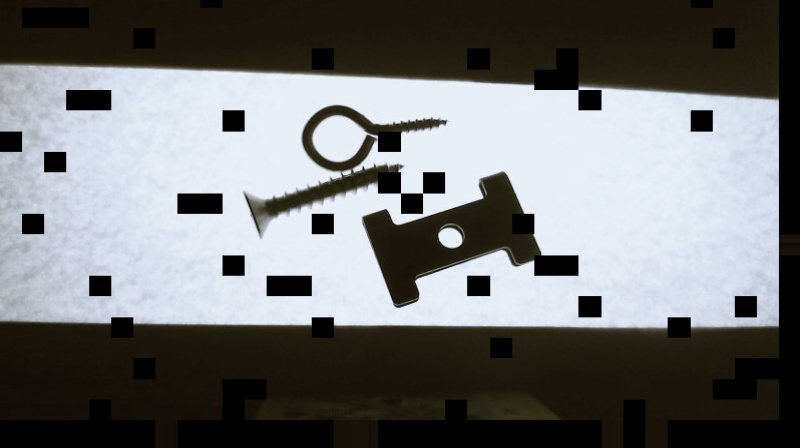O001: (299, 102, 450, 174)
O002: (361, 170, 544, 308)
S001: (239, 161, 409, 241)
